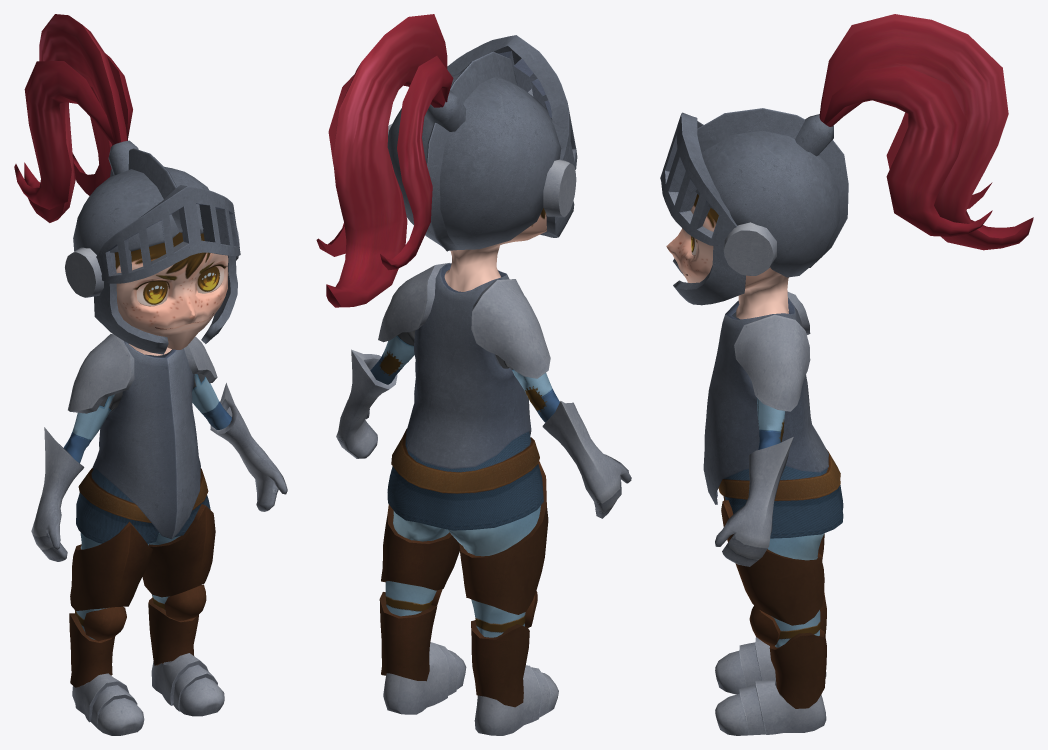
Rendered from GameCharacterBindPose_OLD.fbx.
The picture shows the model from 3 angles, left to right: view 1: azimuth 30°, elevation 25°; view 2: azimuth 150°, elevation 25°; view 3: azimuth 270°, elevation 25°; orthographic projection. The views are drawn at different scales.
Parts seen in each view (by area): view 1: Person; view 2: Person; view 3: Person.
Part boxes in pixels (x1=…): Person: x1=14, y1=14, x2=287, y2=735; Person: x1=316, y1=14, x2=631, y2=735; Person: x1=660, y1=14, x2=1033, y2=735.
Bounding box in the file's own units: 3.43 × 8.8 × 4.32.
